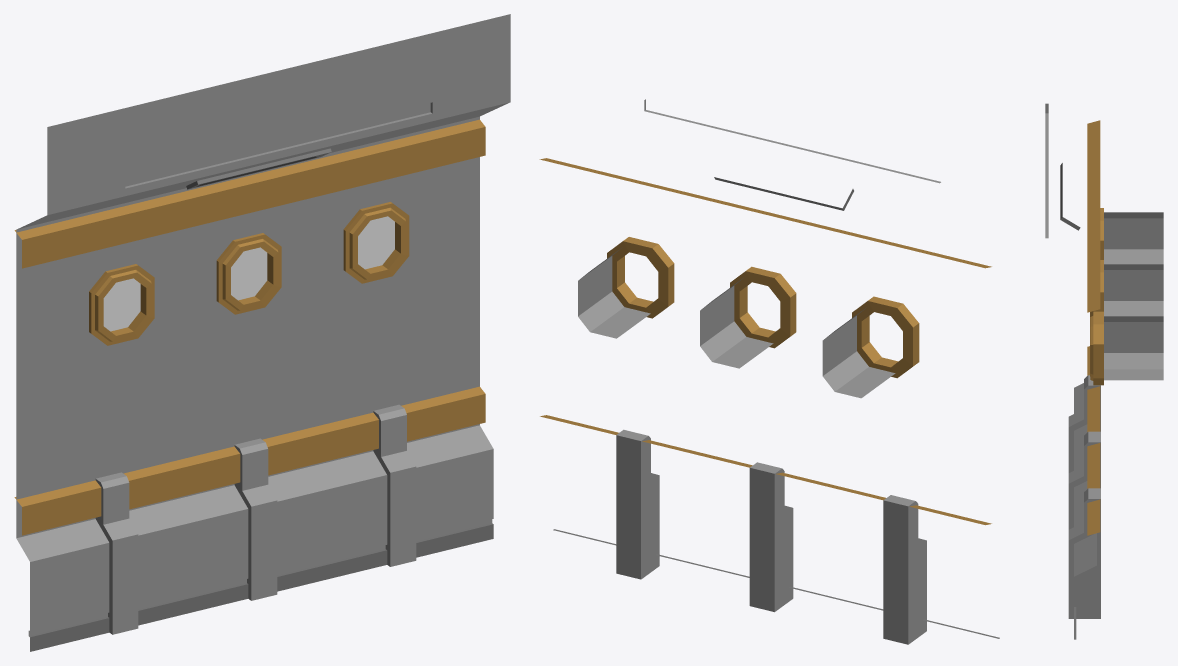
Rendered from SmallWindows_Wall_SideA.glb.
3 renders of one model, left to right at view 1: azimuth 30°, elevation 25°; view 2: azimuth 150°, elevation 25°; view 3: azimuth 270°, elevation 25°, orthographic. The views are drawn at different scales.
Visible parts, largest first — view 1: SmallWindows_Wall_SideA; view 2: SmallWindows_Wall_SideA; view 3: SmallWindows_Wall_SideA.
Part boxes in pixels (x1,y1,x2,y2): SmallWindows_Wall_SideA: (14,14,510,651); SmallWindows_Wall_SideA: (539,99,999,644); SmallWindows_Wall_SideA: (1045,103,1163,639).
Bounding box in the file's own units: 4 × 4.43 × 1.06.
